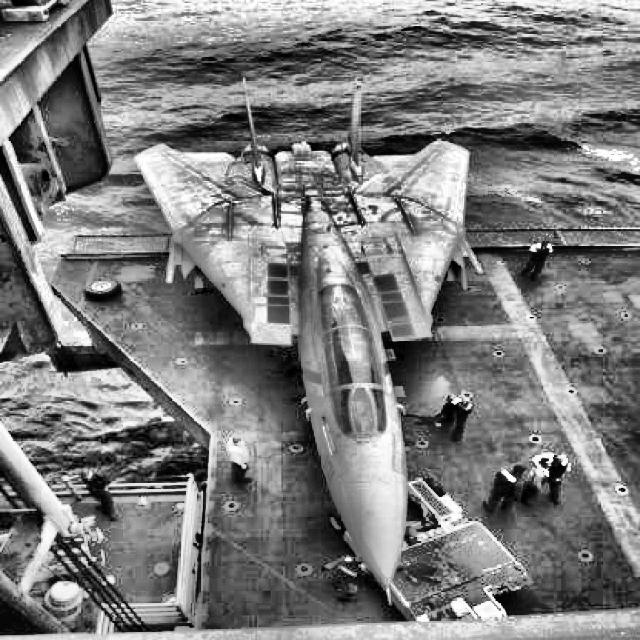F14: (132, 76, 483, 604)
